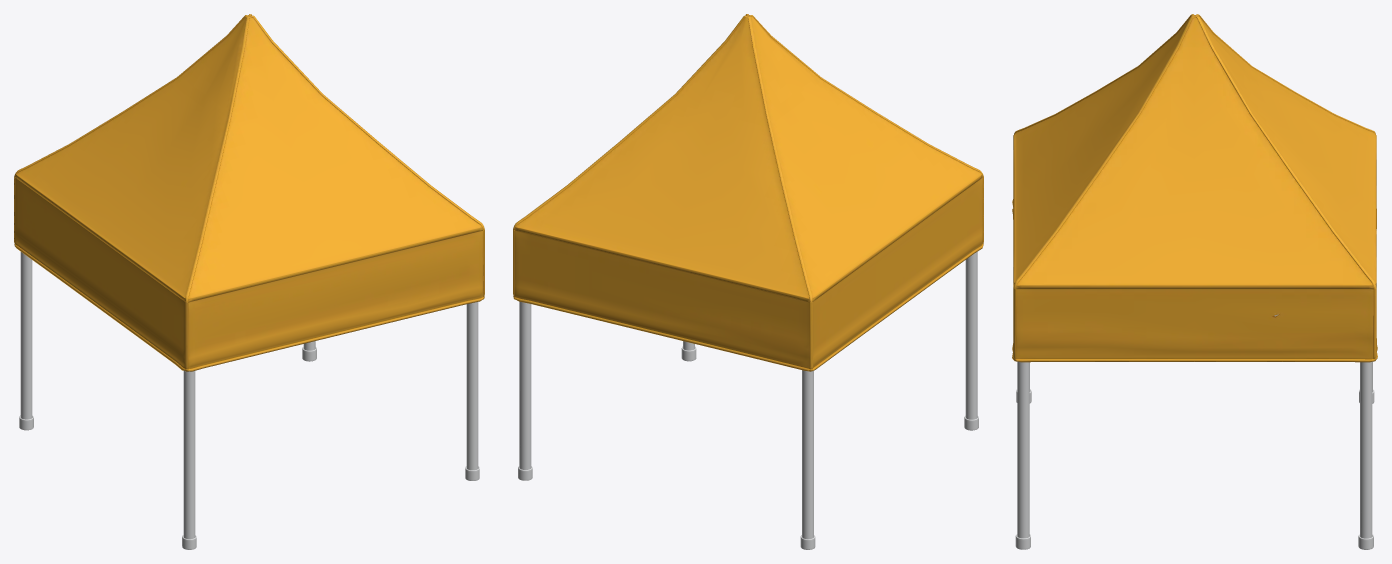
The model's file is tent-65x65.glb.
3 renders of one model, left to right at view 1: azimuth 30°, elevation 25°; view 2: azimuth 150°, elevation 25°; view 3: azimuth 270°, elevation 25°, orthographic. The views are drawn at different scales.
Visible parts, largest first — view 1: fabric, leg; view 2: fabric, leg; view 3: fabric, leg.
Part boxes in pixels (x1=…): fabric: x1=14, y1=14, x2=484, y2=371; leg: x1=19, y1=252, x2=479, y2=549; fabric: x1=513, y1=14, x2=983, y2=371; leg: x1=518, y1=251, x2=978, y2=549; fabric: x1=1012, y1=14, x2=1377, y2=362; leg: x1=1015, y1=361, x2=1374, y2=549.
Size of the model in its own units: 1.53 by 2.12 by 1.53.
3 materials, 1 textured.
